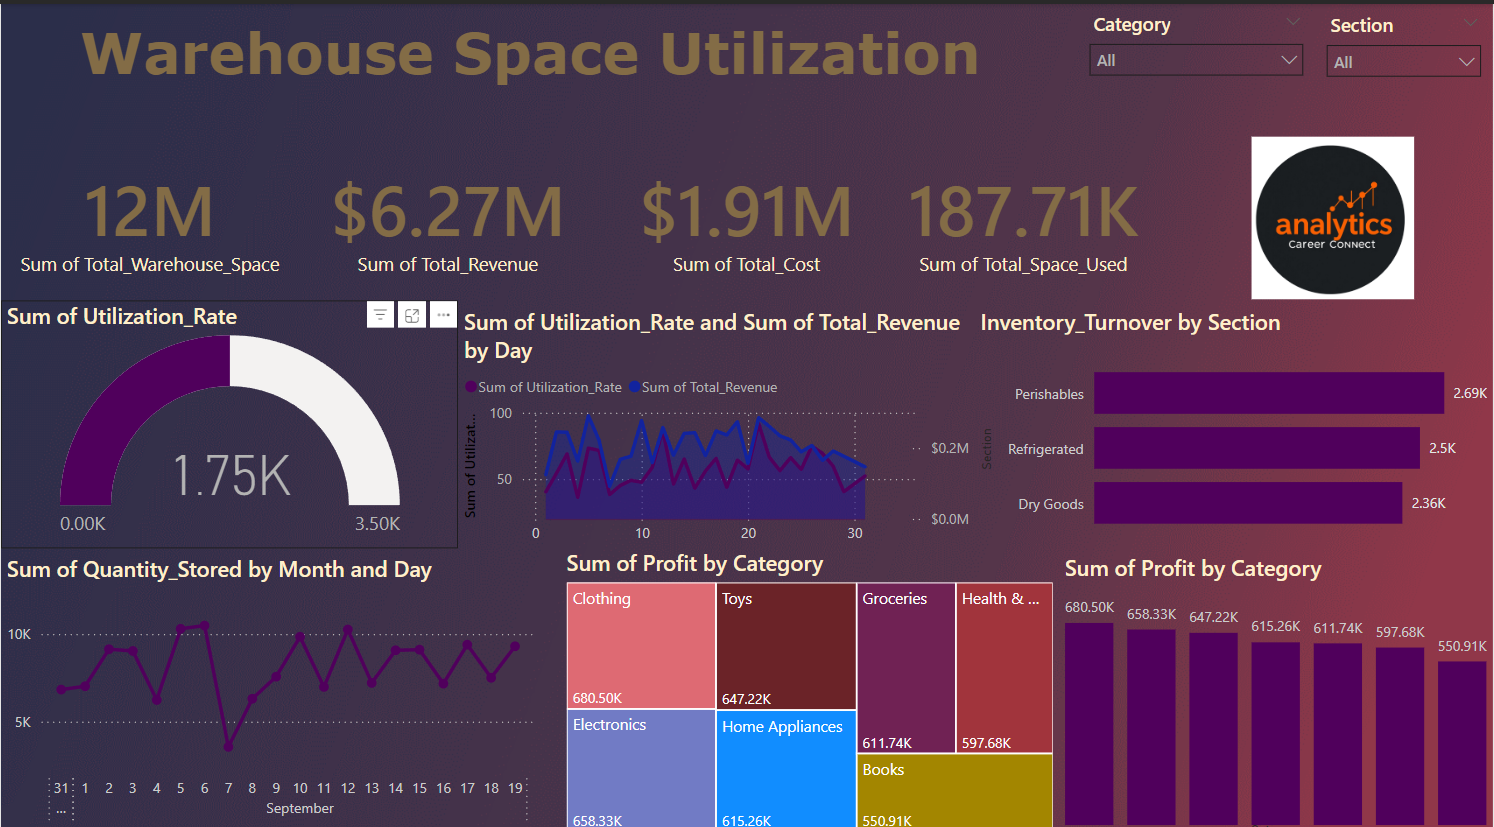

This screenshot's page, from the dashboard's own definition file:
{"tool":"powerbi","page":{"name":"Page 2","canvas":[1280,720],"ordinal":1},"visuals":[{"type":"textbox","box":[0,0,924.4,108.9],"z":0},{"type":"slicer","fields":{"Values":["Sheet1.Category"]},"box":[924.1,0,203.3,107.5],"z":1000},{"type":"slicer","fields":{"Values":["Sheet1.Section"]},"box":[1127.8,1.1,152.2,107.8],"z":2000},{"type":"image","box":[1004.4,108.9,275.6,150],"z":3000},{"type":"card","fields":{"Values":["Sum(Sheet1.Total_Revenue)"]},"box":[255.6,108.9,255.6,150],"z":4000},{"type":"card","fields":{"Values":["Sum(Sheet1.Total_Cost)"]},"box":[511.1,108.9,255.6,150],"z":5000},{"type":"card","fields":{"Values":["Sum(Sheet1.Total_Space_Used)"]},"box":[748.8,108.8,255.3,149.8],"z":6000},{"type":"card","fields":{"Values":["Sum(Sheet1.Total_Warehouse_Space)"]},"box":[0,108.9,255,150],"z":7000},{"type":"treemap","fields":{"Group":["Sheet1.Category"],"Values":["Sum(Sheet1.Profit)"]},"box":[480.1,466.3,426.9,248.1],"z":8000},{"type":"barChart","fields":{"Y":["Sheet1.Inventory_Turnover"],"Category":["Sheet1.Section"]},"box":[835.6,258.9,444.4,212.2],"z":9000},{"type":"lineChart","fields":{"Y":["Sum(Sheet1.Quantity_Stored)"],"Category":["Sheet1.Date_Recorded.Variation.Date Hierarchy.Month","Sheet1.Date_Recorded.Variation.Date Hierarchy.Day"]},"box":[0,471.6,462,248.1],"z":10000},{"type":"gauge","fields":{"Y":["Sum(Sheet1.Utilization_Rate)"]},"box":[0,254.3,392.2,212.2],"z":11000},{"type":"areaChart","fields":{"Category":["Sheet1.Date_Recorded.Variation.Date Hierarchy.Day"],"Y":["Sum(Sheet1.Utilization_Rate)"],"Y2":["Sum(Sheet1.Total_Revenue)"]},"box":[392.2,258.9,443.3,212.2],"z":12000},{"type":"columnChart","fields":{"Y":["Sum(Sheet1.Profit)"],"Category":["Sheet1.Category"]},"box":[907.1,470.6,372.6,248.1],"z":13000}]}

Visuals, with their boxes in screenshot pixels (x1, y1, x2, y2), scaled from the page's 1280x720 canvas onto the 1494x827 screenshot:
textbox: <box>0,0,1079,125</box>
slicer - Sheet1.Category: <box>1079,0,1316,123</box>
slicer - Sheet1.Section: <box>1316,1,1493,125</box>
image: <box>1172,125,1493,297</box>
card - Sum(Sheet1.Total_Revenue): <box>298,125,597,297</box>
card - Sum(Sheet1.Total_Cost): <box>597,125,895,297</box>
card - Sum(Sheet1.Total_Space_Used): <box>874,125,1172,297</box>
card - Sum(Sheet1.Total_Warehouse_Space): <box>0,125,298,297</box>
treemap - Sheet1.Category x Sum(Sheet1.Profit): <box>560,536,1059,821</box>
barChart - Sheet1.Inventory_Turnover x Sheet1.Section: <box>975,297,1493,541</box>
lineChart - Sum(Sheet1.Quantity_Stored) x Sheet1.Date_Recorded.Variation.Date Hierarchy.Month: <box>0,542,539,826</box>
gauge - Sum(Sheet1.Utilization_Rate): <box>0,292,458,536</box>
areaChart - Sheet1.Date_Recorded.Variation.Date Hierarchy.Day x Sum(Sheet1.Utilization_Rate): <box>458,297,975,541</box>
columnChart - Sum(Sheet1.Profit) x Sheet1.Category: <box>1059,541,1493,826</box>
